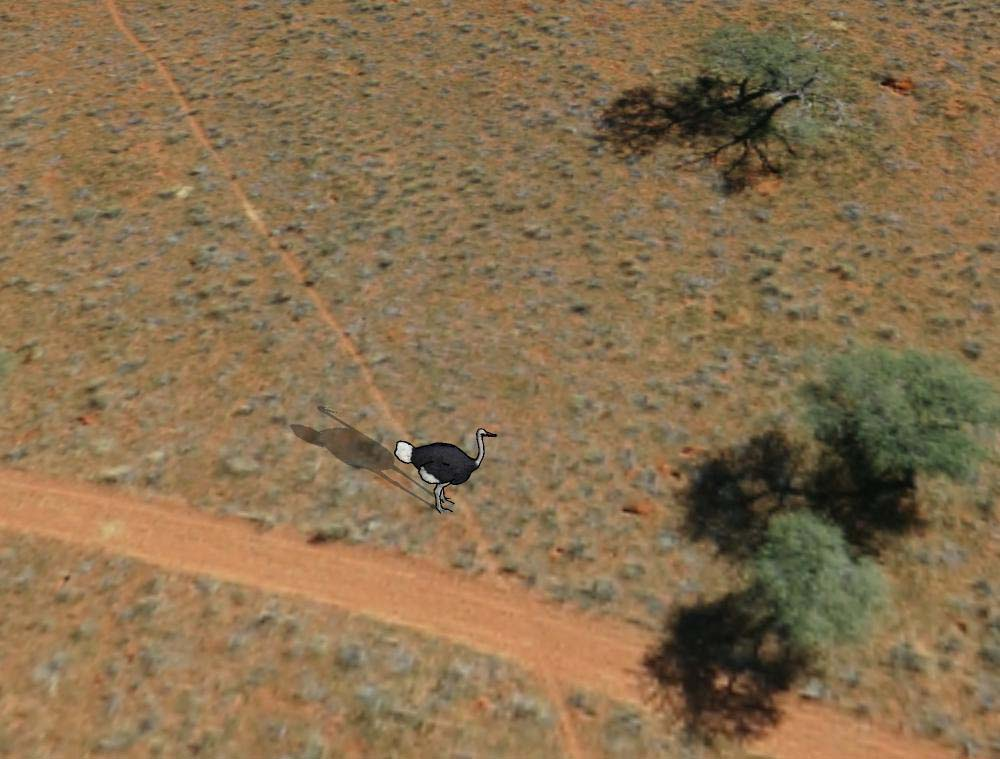springbok: (394, 429, 500, 515)
